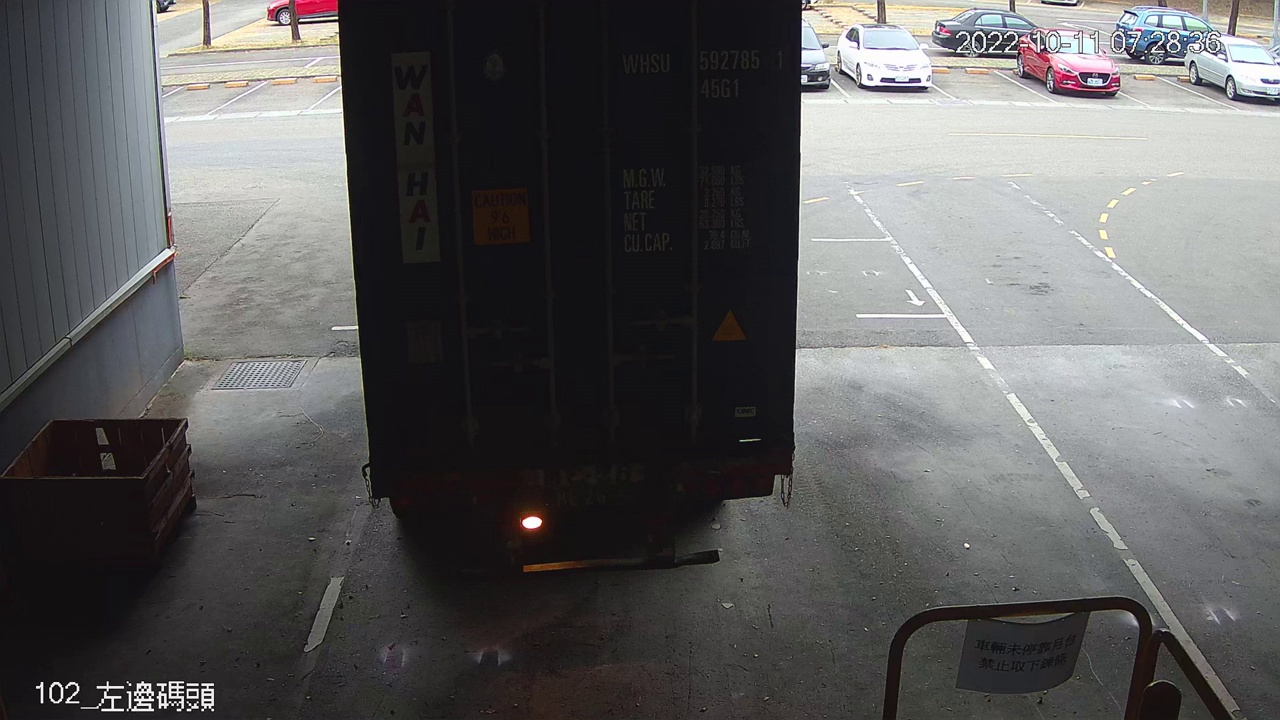container: (615, 41, 791, 107)
